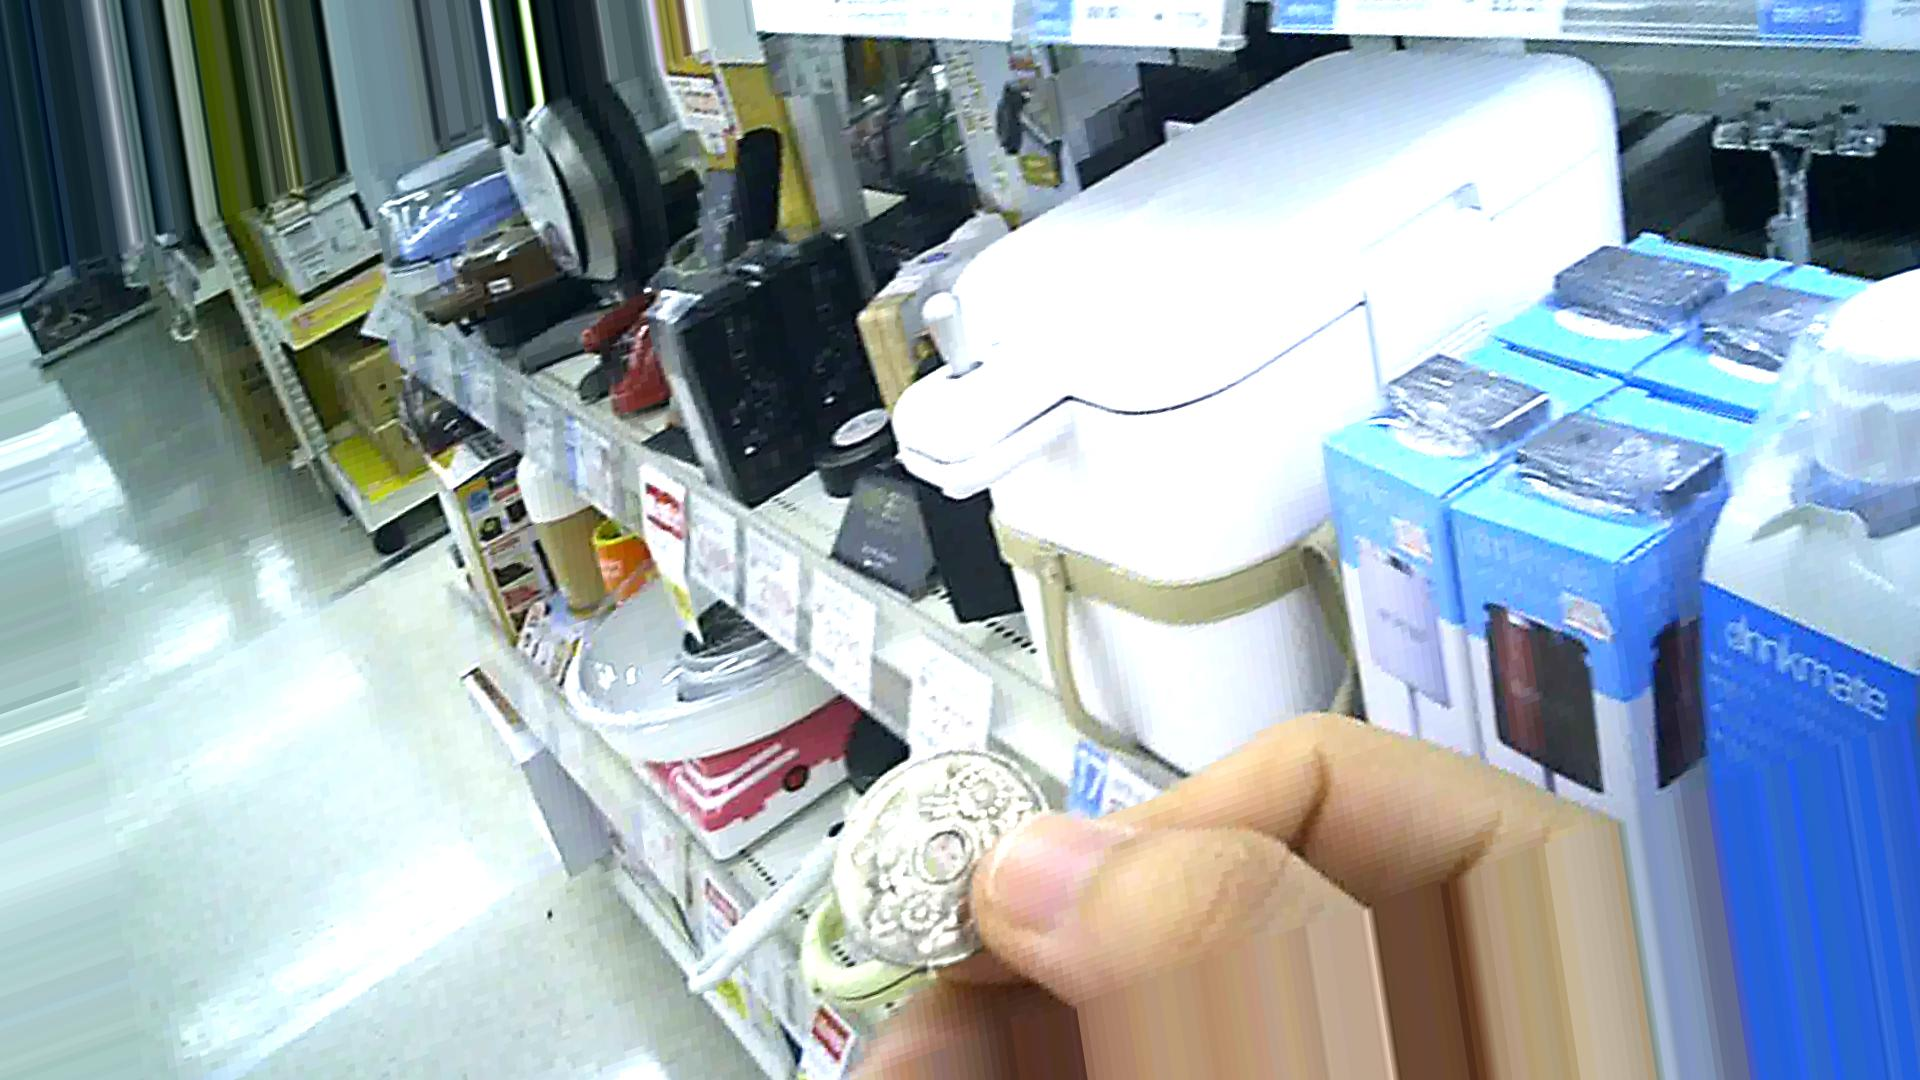50 Yen: (825, 733, 1044, 982)
